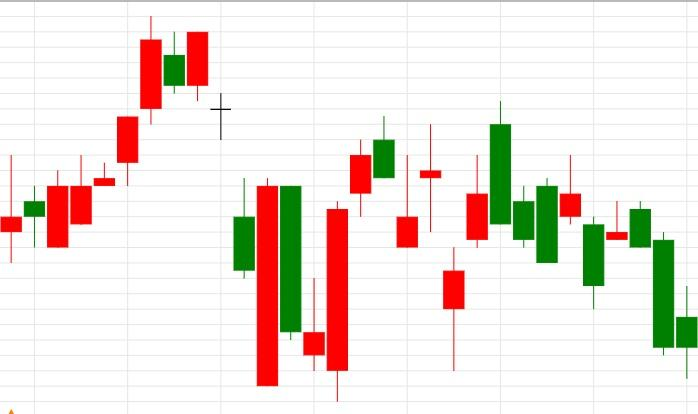bullish_engulfing_rise: (139, 16, 279, 387)
